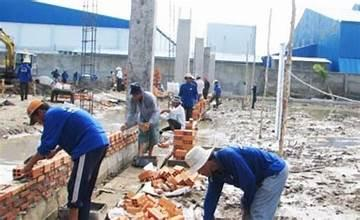Helmet: (183, 145, 214, 179), (26, 102, 46, 126), (130, 83, 145, 94), (171, 95, 181, 103), (23, 56, 31, 63)
Person: (21, 99, 109, 219), (184, 143, 288, 219), (120, 84, 160, 156), (177, 72, 198, 120), (159, 95, 185, 132), (15, 58, 32, 100)
Safety Vest: (169, 105, 184, 120)
no-vest: (44, 106, 109, 154), (218, 151, 286, 195), (134, 96, 157, 122), (182, 86, 197, 106)
